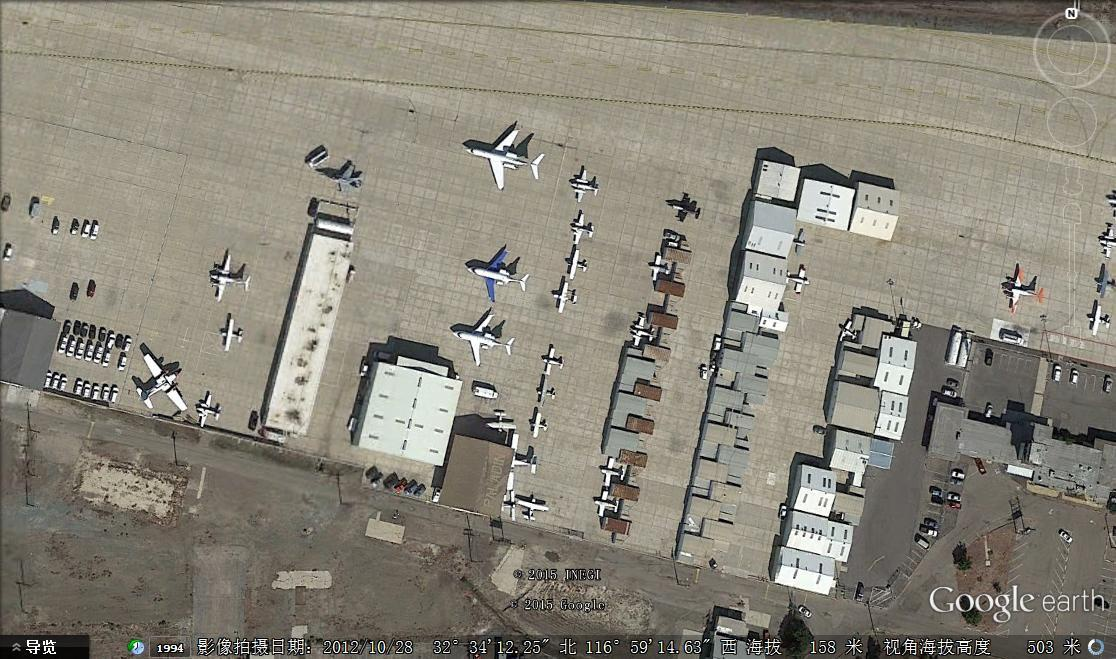aircraft: (462, 122, 549, 196), (127, 344, 192, 419), (465, 242, 534, 305), (448, 307, 519, 368), (208, 245, 255, 307), (997, 262, 1045, 311), (564, 160, 603, 206), (511, 490, 552, 524), (195, 392, 228, 434), (595, 454, 630, 493), (567, 209, 600, 248), (549, 280, 582, 319), (220, 314, 249, 358), (643, 248, 675, 286), (1084, 301, 1114, 340), (538, 340, 567, 379), (630, 307, 655, 352), (589, 488, 621, 523), (564, 248, 592, 280), (535, 374, 559, 410), (525, 407, 553, 437), (784, 265, 811, 296), (834, 317, 861, 346), (1093, 263, 1114, 298), (1098, 223, 1114, 259)
